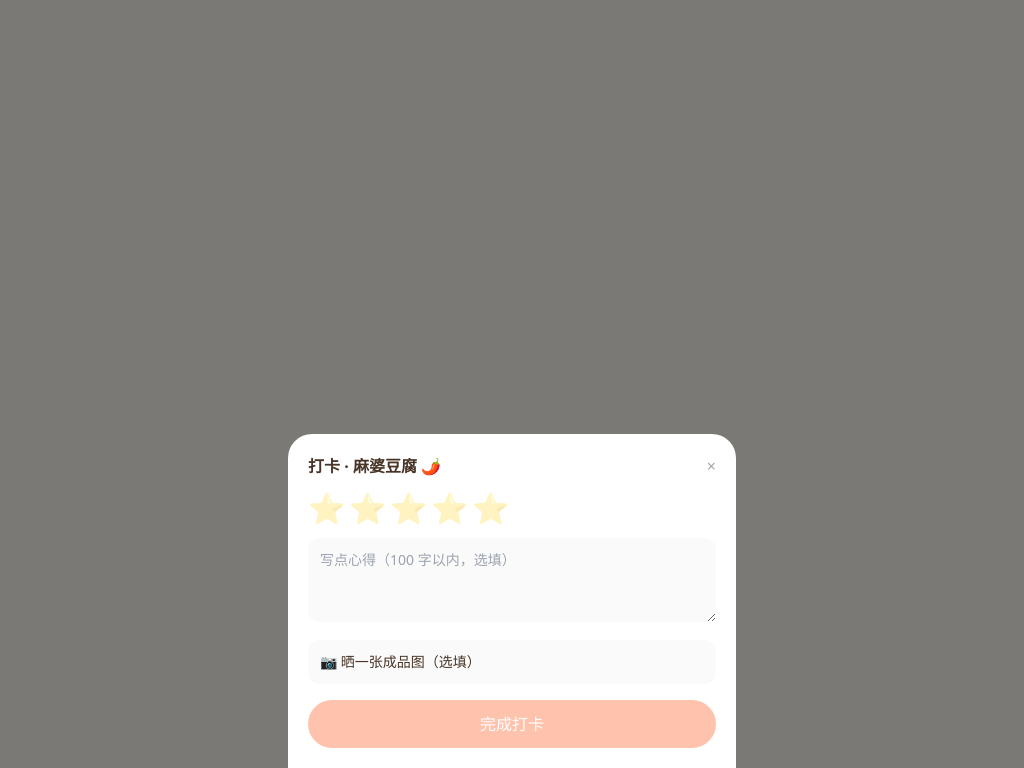
it: CheckinModal › 选星提交走 useCheckin.mutate
Click the button with test id "star-4": x=450, y=508 [431,490,468,526]
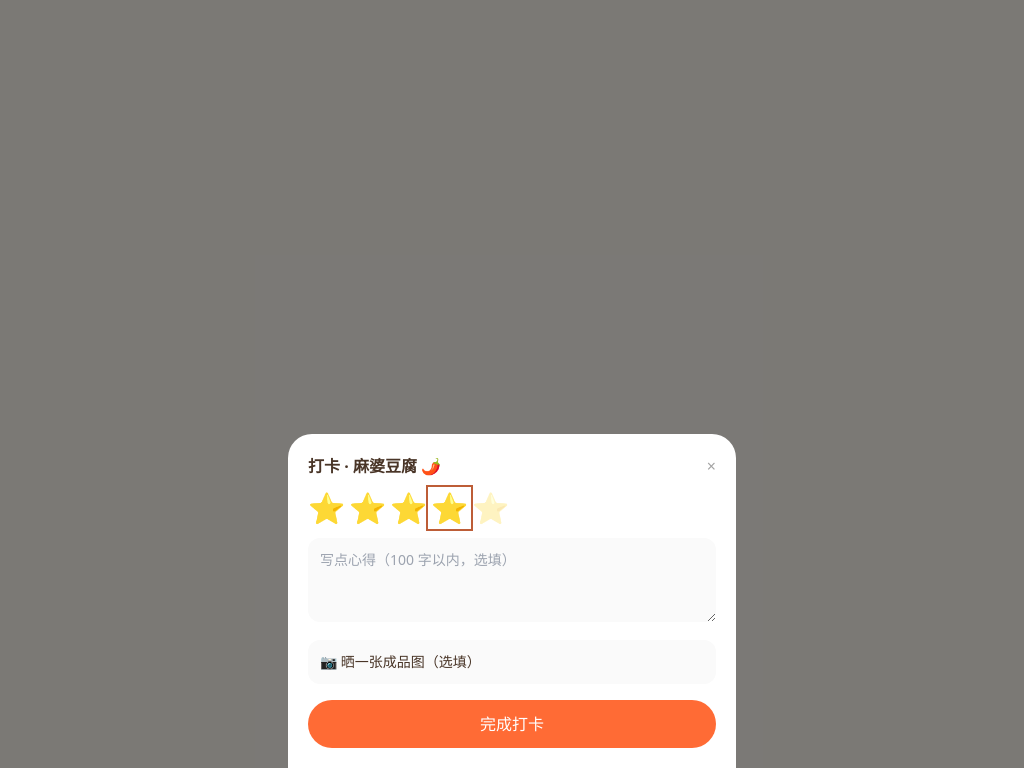
Click the button "完成打卡": x=512, y=724 [308,700,716,748]
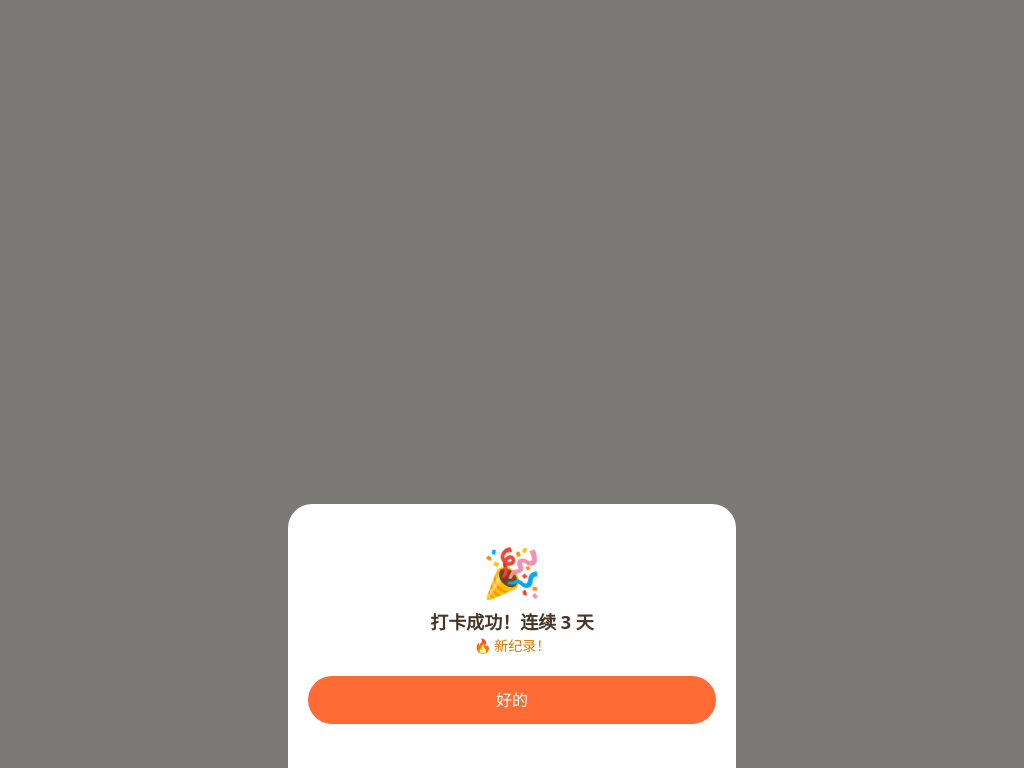
Expected: the element with test id "checkin-success" is shown, [308,524,716,748]
